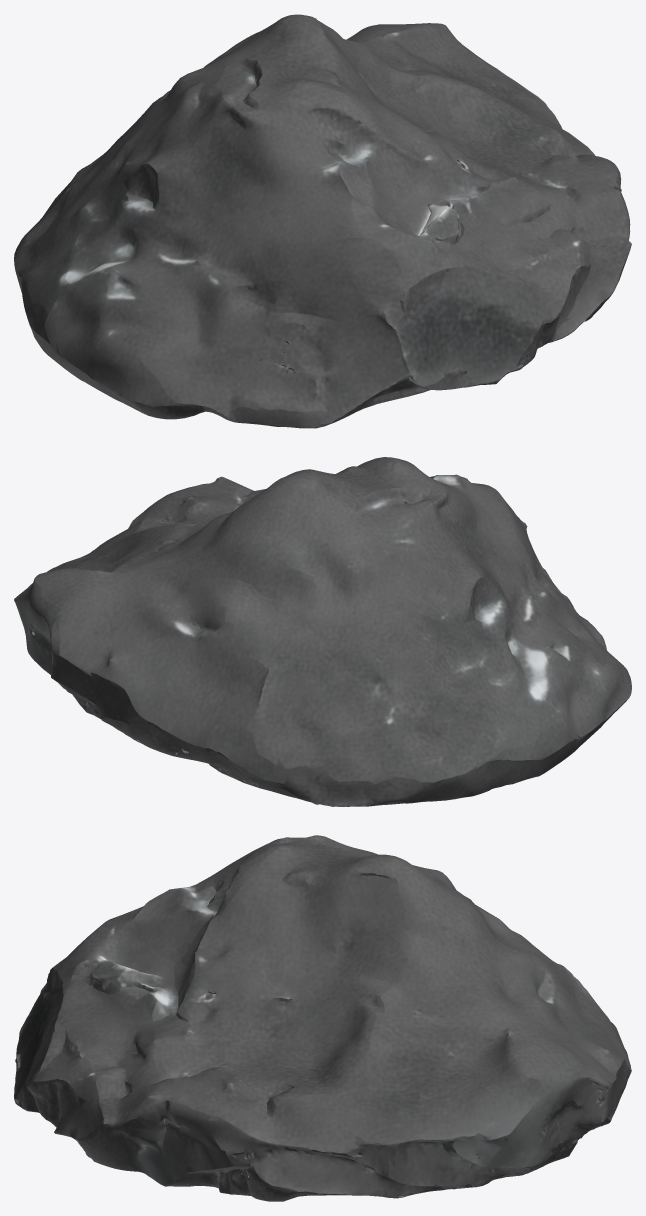
3 views of the same model, one above another, from view 1: azimuth 30°, elevation 25°; view 2: azimuth 150°, elevation 25°; view 3: azimuth 270°, elevation 25° (orthographic). The views are drawn at different scales.
Parts seen in each view (by area): view 1: world; view 2: world; view 3: world.
Boxes of the visible parts, <box> form: world: <box>14,14,631,428</box>; world: <box>14,457,631,806</box>; world: <box>14,835,631,1201</box>.
Bounding box in the file's own units: 1.2 × 0.5779 × 1.19.
1 material, 1 textured.
